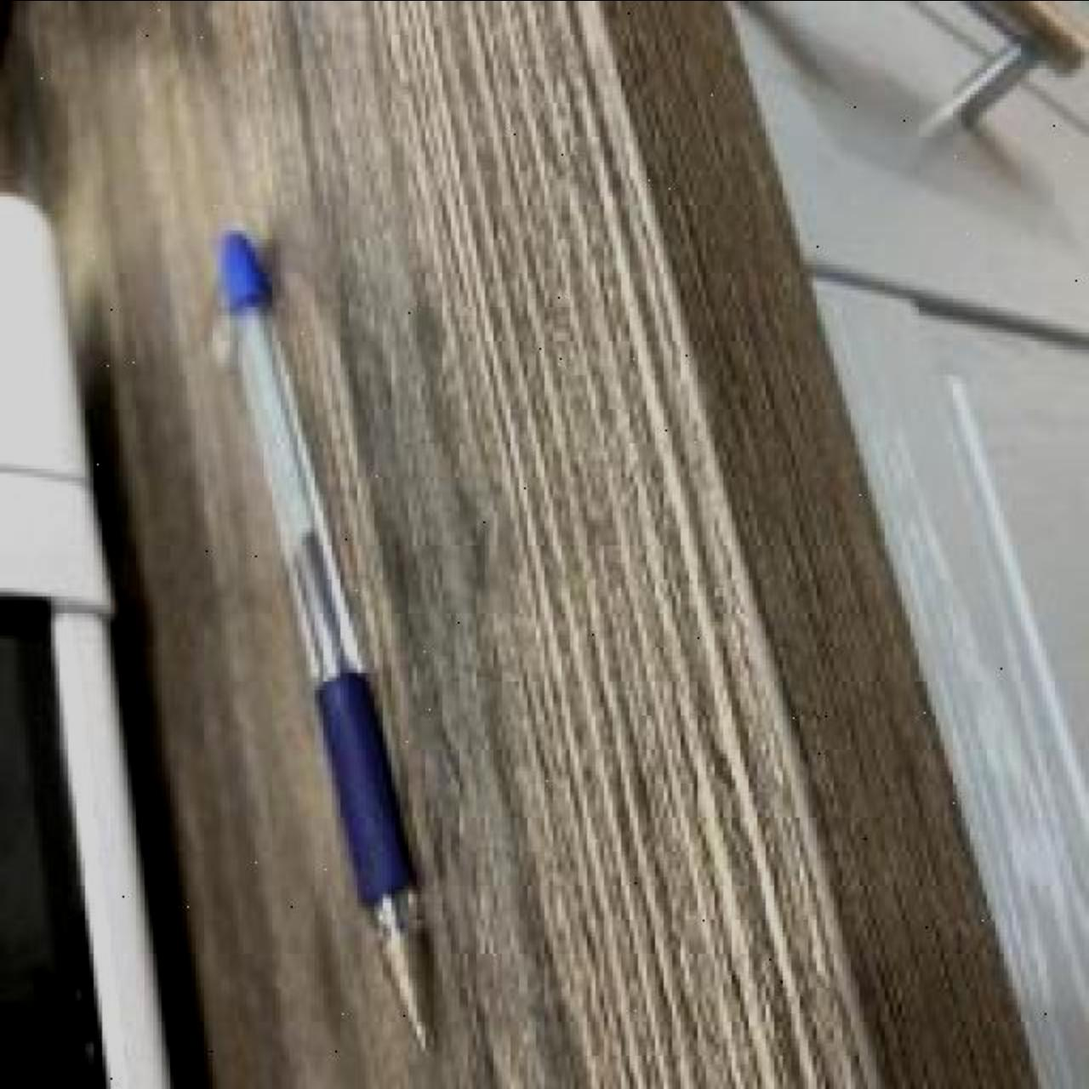pen: (221, 225, 439, 1055)
